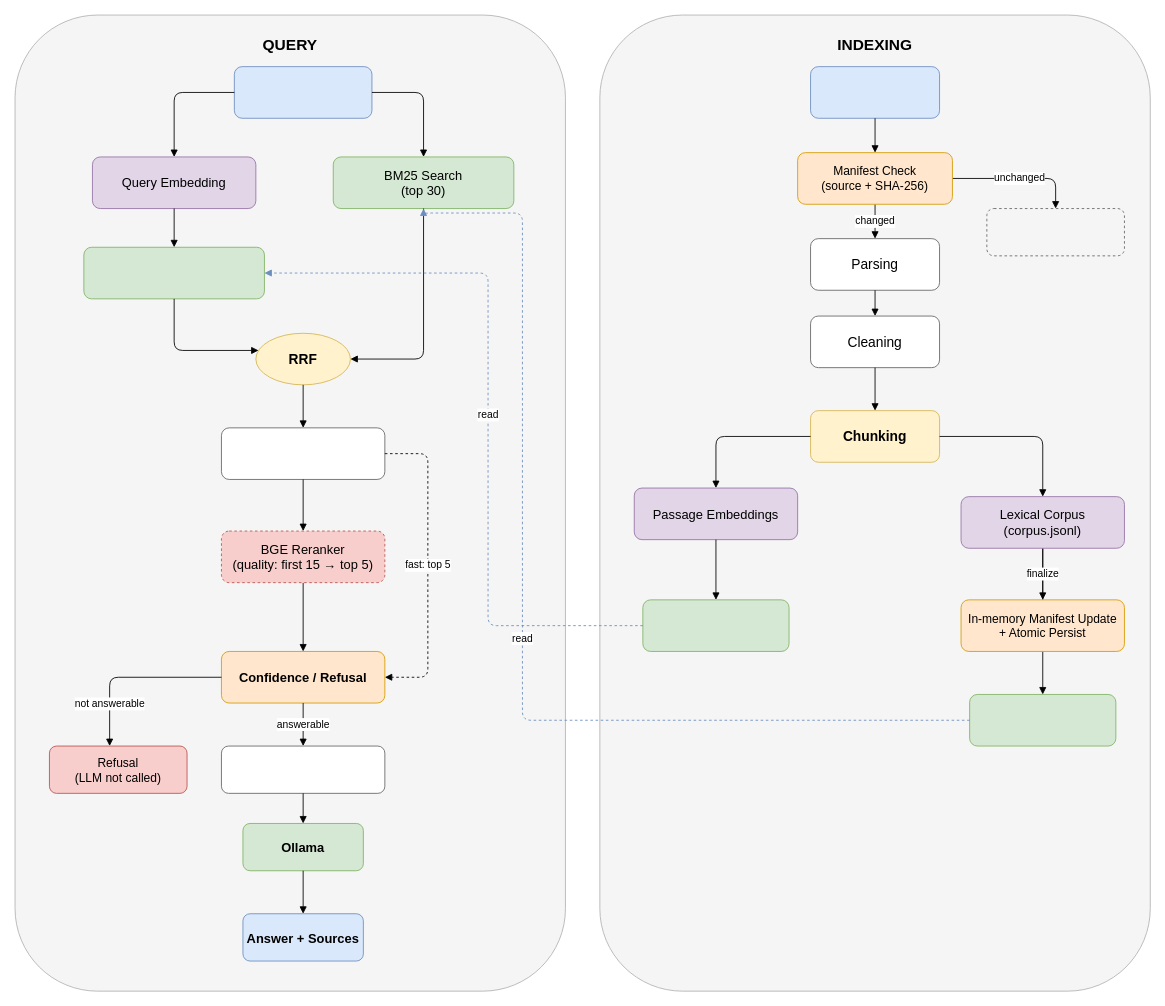
Image size: 1165x1006. Some labels were removed from this diagram. The shapes that lost their labels are listed below. From the top down, each one's centre as x and y in pixels, then its label:
At point (302, 92): "User Query".
At point (875, 92): "PDF / TXT".
At point (1055, 232): "Skip Unchanged".
At point (173, 272): "Qdrant Dense Search (top 30)".
At point (303, 453): "Fused Candidates (top 30)".
At point (715, 625): "Qdrant Vectors + Metadata".
At point (1042, 720): "BM25 (in memory)".
At point (303, 769): "Selected Chunks".
